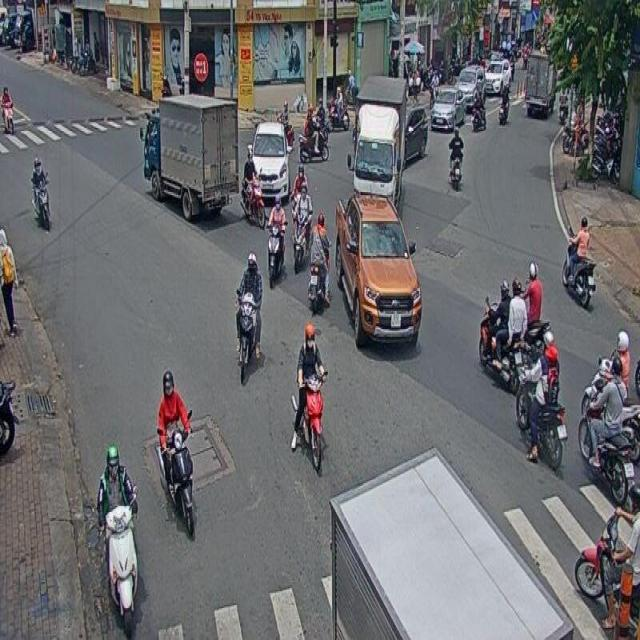car: (334, 189, 422, 353)
motorcycle: (93, 437, 143, 640), (153, 364, 201, 546), (577, 358, 635, 508), (514, 328, 566, 470), (288, 318, 325, 472), (478, 276, 524, 388), (236, 246, 261, 380), (562, 212, 594, 309), (306, 210, 332, 314), (264, 191, 287, 291), (238, 148, 266, 225), (290, 183, 312, 274), (298, 100, 328, 164), (30, 159, 51, 230), (448, 125, 462, 189)
truck: (144, 98, 242, 222), (351, 73, 404, 218)
